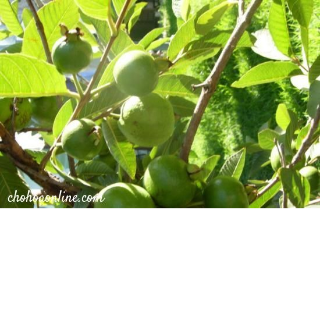oi: (116, 94, 181, 147), (109, 46, 165, 98), (49, 26, 97, 79), (54, 114, 110, 156)
